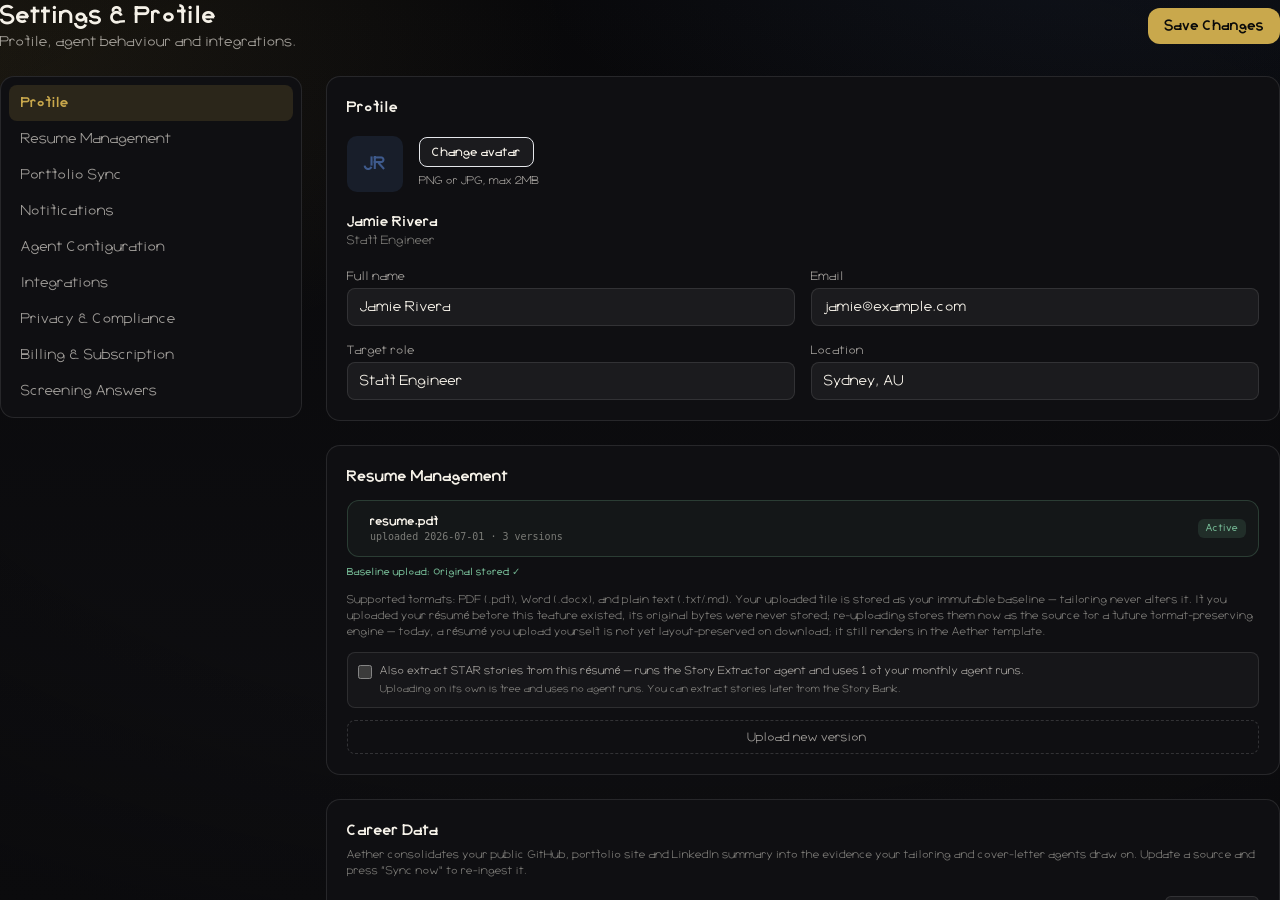
Test: SettingsPage — Job Board Sync is real, not a fake setTimeout (MV-settings-002) › wires Sync All to the real runScoutAgent(query, location) endpoint and re-fetches settings on success
Click the button with test id "settings-nav-integrations": click(65, 283) [9,265,293,301]
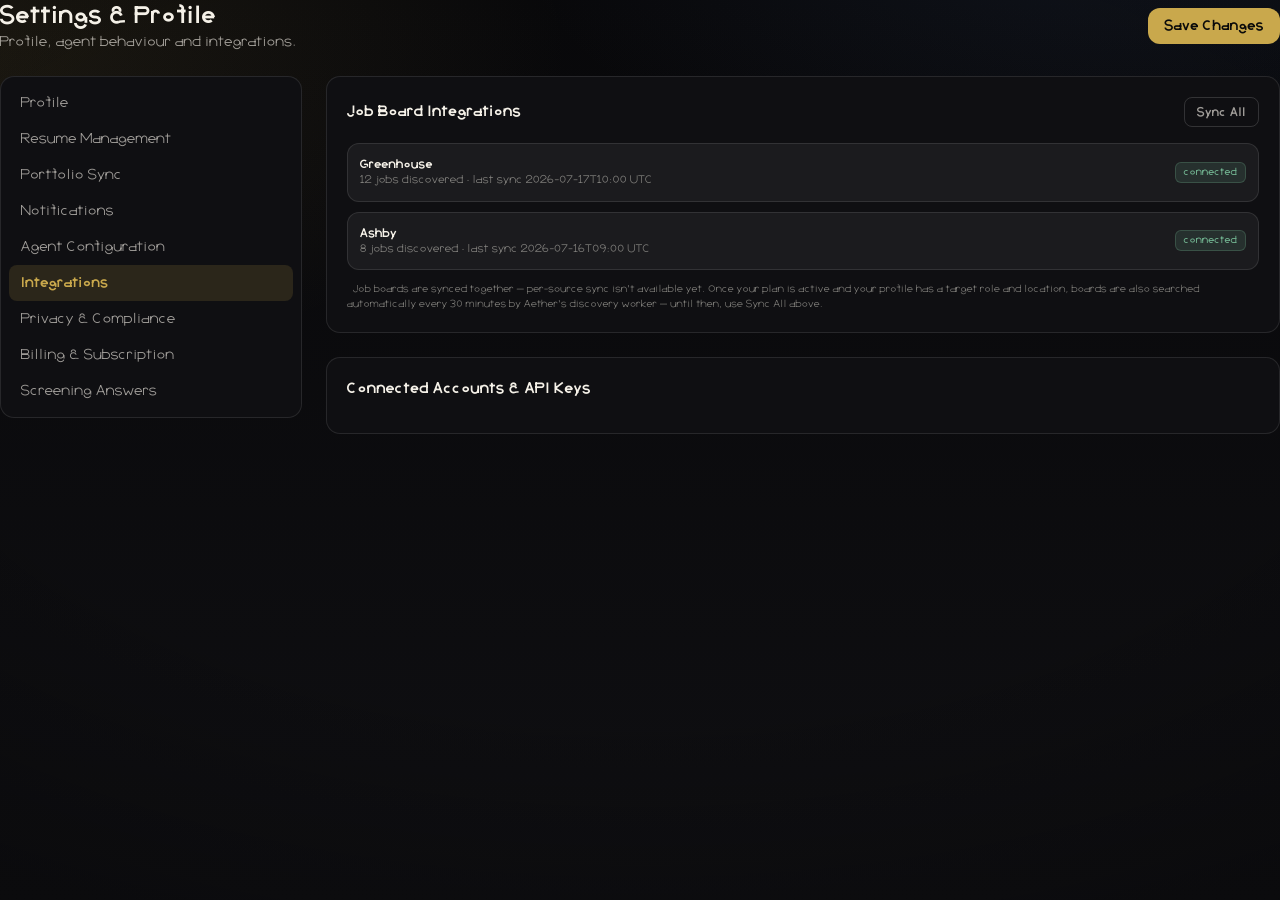
Expected: the element with test id "settings-integrations" is shown, [326,76,1279,333]
Click the button with test id "sync-all-btn": click(1222, 112) [1184,97,1259,127]
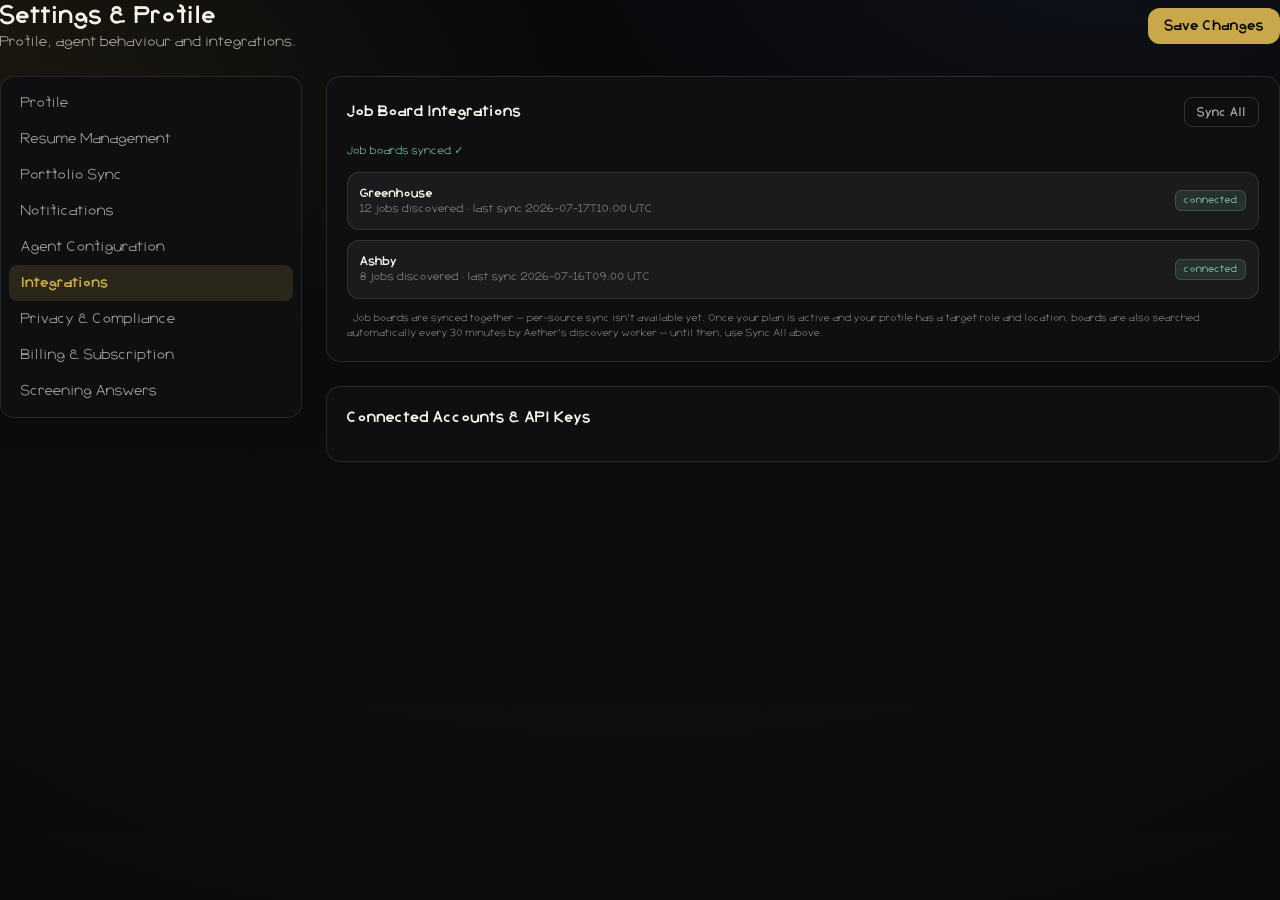
Expected: the message with test id "jobboard-sync-notice" shows "sync", [347,145,464,156]
